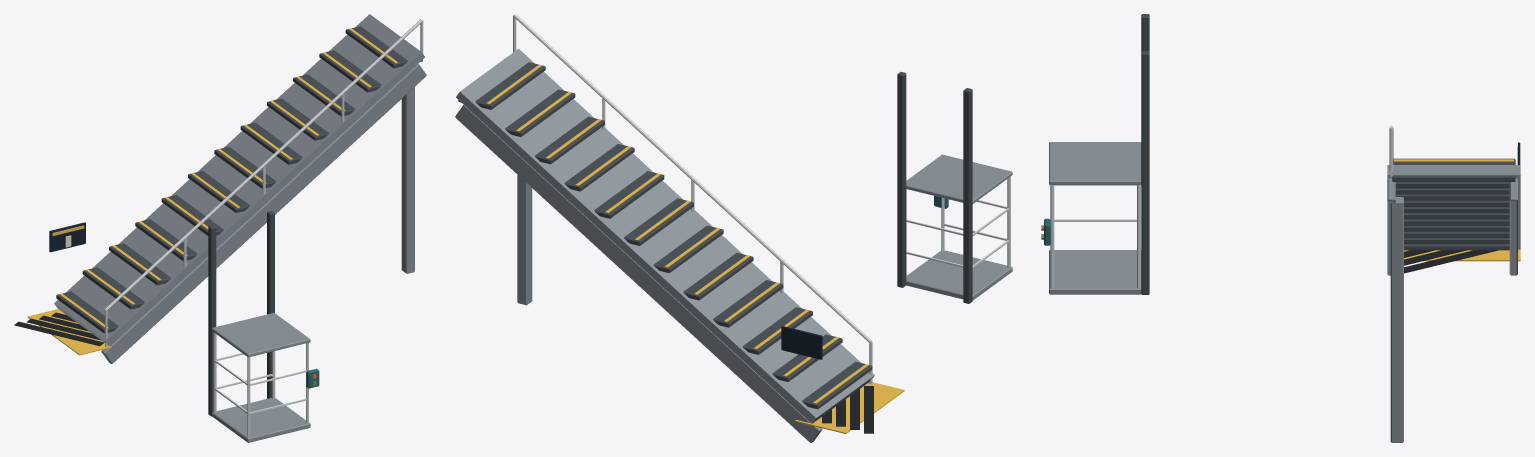
The model's file is Kit_Shaft_L2.fbx.
The picture shows the model from 3 angles, left to right: view 1: azimuth 30°, elevation 25°; view 2: azimuth 150°, elevation 25°; view 3: azimuth 270°, elevation 25°; orthographic projection. The views are drawn at different scales.
Visible parts, largest first — view 1: Decor, StairRamp, LiftCar, Stringers, LiftRails; view 2: Decor, StairRamp, LiftRails, LiftCar, Stringers; view 3: Decor, LiftCar, Stringers, LiftRails, StairRamp.
Part boxes in pixels (box(x1,y1,x2,y2)): Decor: box(14, 19, 426, 437); StairRamp: box(54, 14, 424, 346); LiftCar: box(212, 397, 310, 442); Stringers: box(401, 87, 414, 273); LiftRails: box(208, 211, 274, 416); Decor: box(455, 14, 1012, 442); StairRamp: box(456, 48, 874, 423); LiftRails: box(897, 72, 972, 303); LiftCar: box(906, 250, 1012, 300); Stringers: box(517, 175, 532, 305); Decor: box(1041, 125, 1520, 288); LiftCar: box(1049, 250, 1141, 294); Stringers: box(1390, 197, 1403, 442); LiftRails: box(1141, 14, 1149, 294); StairRamp: box(1387, 165, 1520, 249).
Bounding box in the file's own units: 32.54 × 22.75 × 28.75.
